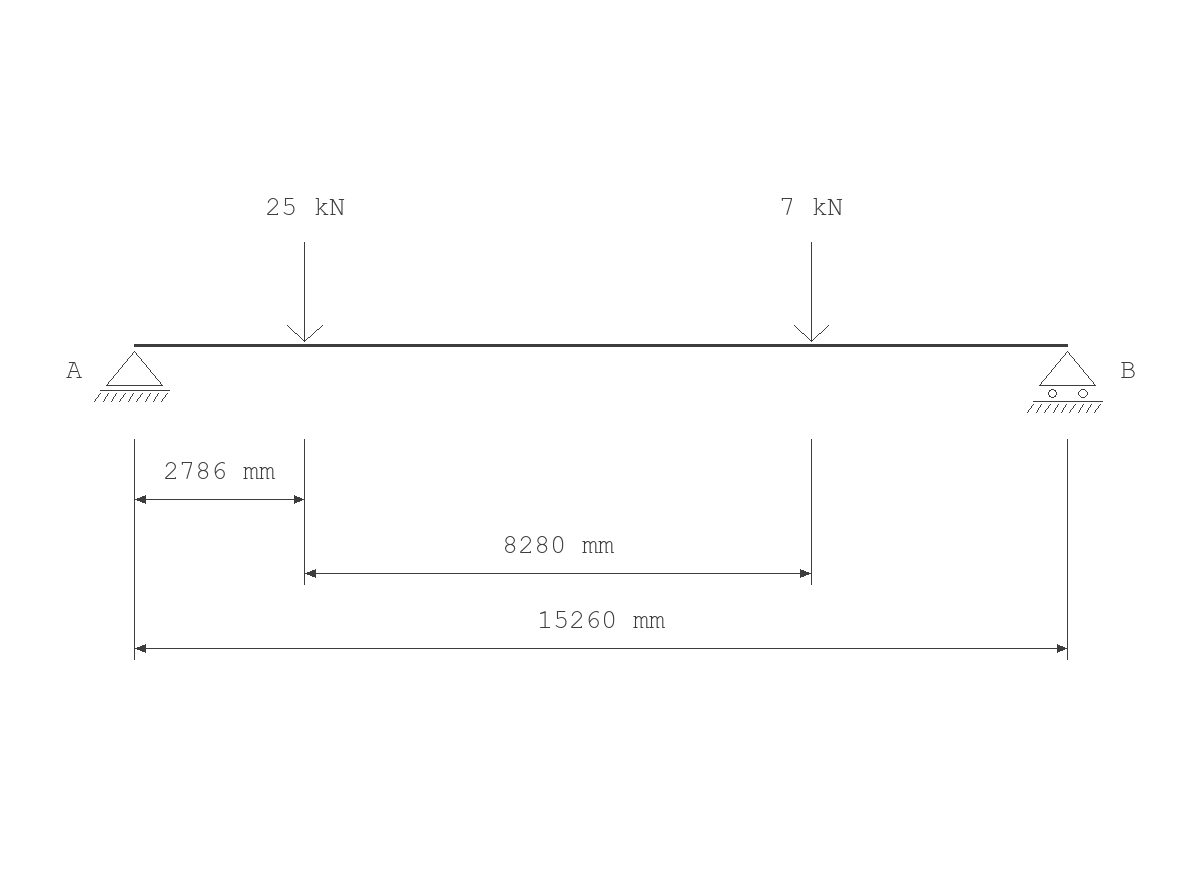pin_support: (94, 351, 170, 402)
point_load: (287, 242, 323, 342), (794, 242, 829, 342)
roller_support: (1027, 351, 1103, 413)
